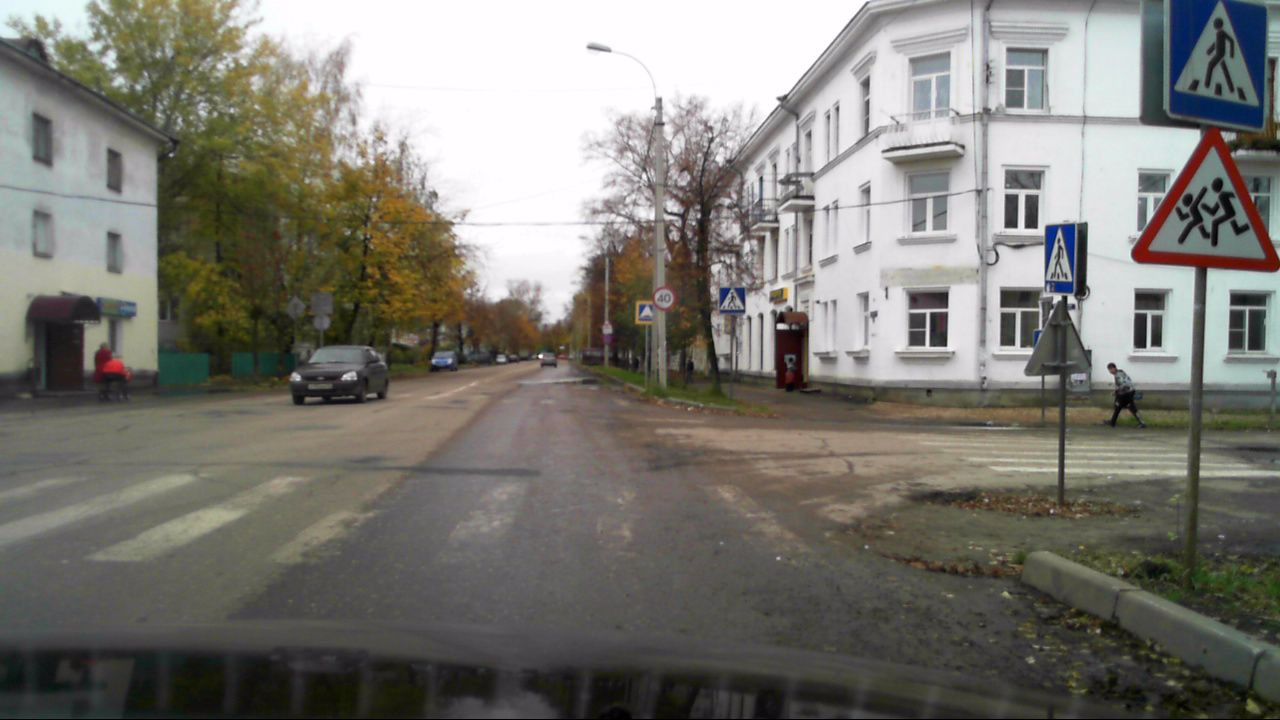speed_warning_40: (651, 285, 676, 310)
